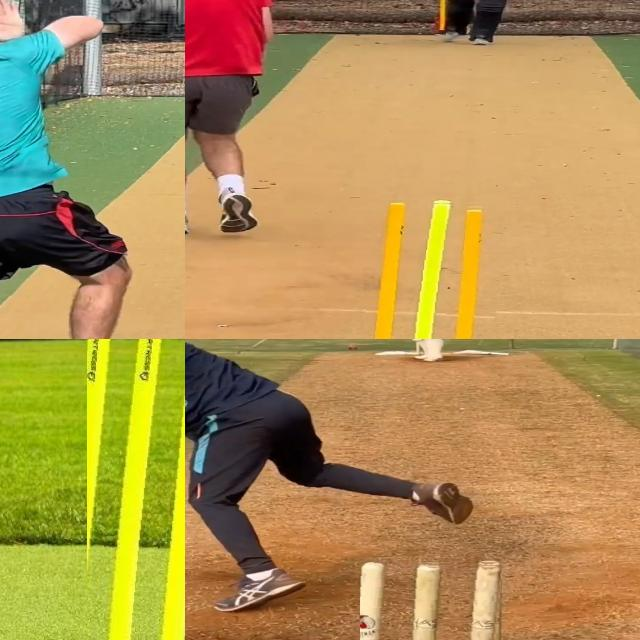Cricket ball: (347, 344, 358, 351)
Stumps: (87, 339, 185, 640), (363, 200, 506, 339), (360, 560, 502, 640)
